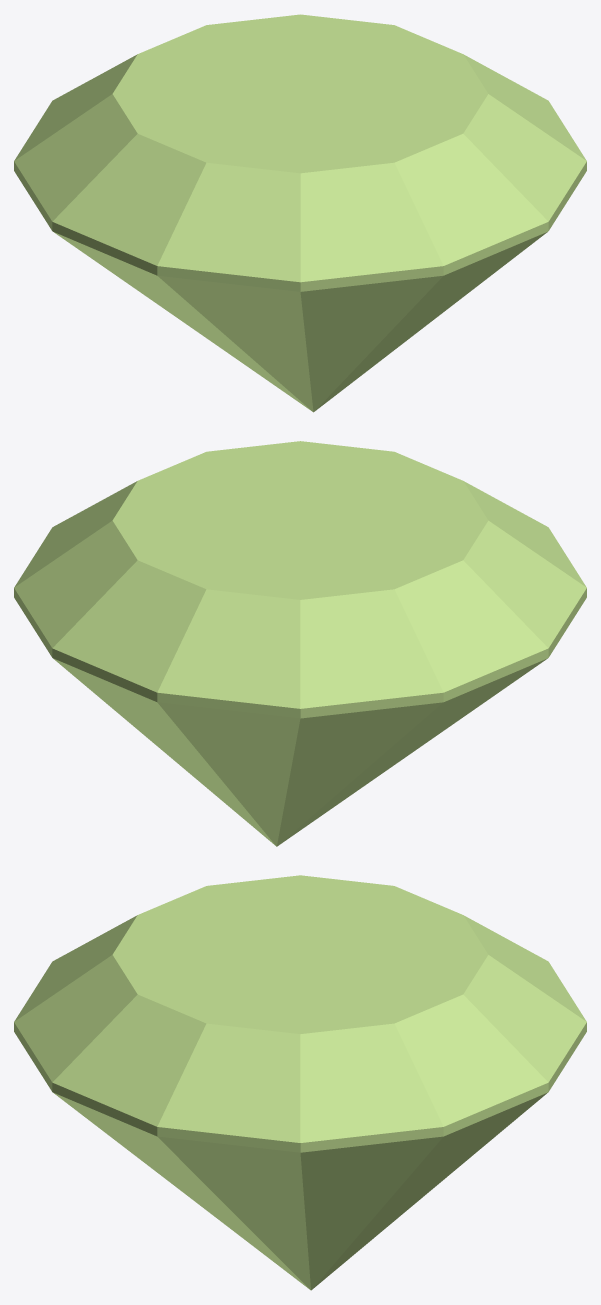
Rendered from ruby-crystal.fbx.
3 renders of one model, top to bottom at view 1: azimuth 30°, elevation 25°; view 2: azimuth 150°, elevation 25°; view 3: azimuth 270°, elevation 25°, orthographic.
Parts seen in each view (by area): view 1: group655375255; view 2: group655375255; view 3: group655375255.
Part boxes in pixels (box(x1,y1,x2,y2)): group655375255: box(14, 14, 586, 412); group655375255: box(14, 441, 586, 846); group655375255: box(14, 875, 586, 1290).
Size of the model in its own units: 54 by 34 by 54.
